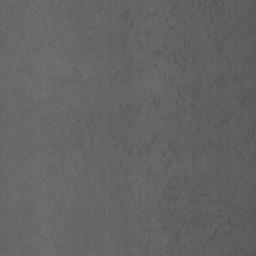Silk spot: (111, 36, 256, 168), (111, 131, 256, 256), (120, 0, 236, 64), (109, 160, 137, 206), (31, 227, 63, 256), (125, 216, 150, 251), (120, 103, 144, 127), (149, 93, 161, 109)
